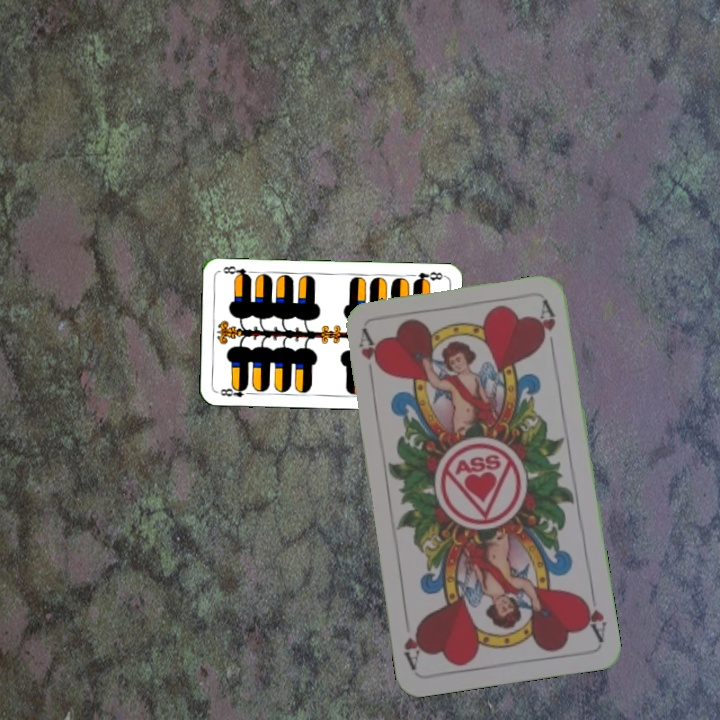E8: (409, 267, 446, 286), (217, 382, 255, 400)
HA: (578, 585, 610, 644), (354, 326, 383, 385)
